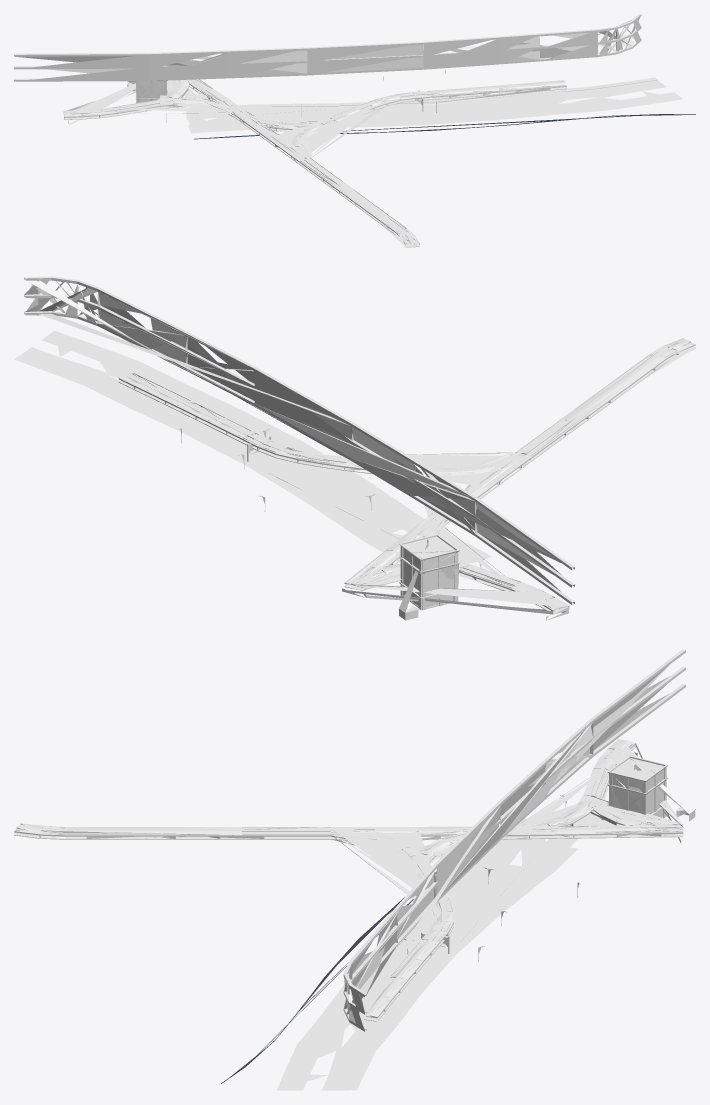
Rendered from street_island2_03.glb.
3 views of the same model, one above another, from view 1: azimuth 30°, elevation 25°; view 2: azimuth 150°, elevation 25°; view 3: azimuth 270°, elevation 25° (orthographic). The views are drawn at different scales.
Parts seen in each view (by area): view 1: seg_954, seg_402, seg_832, seg_825, seg_833, seg_828, seg_779, seg_787, seg_1008, seg_802, seg_807, seg_464 (+1 smaller); view 2: seg_954, seg_402, seg_464, seg_825, seg_833, seg_832, seg_779, seg_787, seg_828, seg_802, seg_807, seg_795; view 3: seg_402, seg_954, seg_825, seg_833, seg_832, seg_464, seg_779, seg_828, seg_802, seg_787, seg_807, seg_1008.
Part boxes in pixels (x1,y1,x2,y2): seg_954: [14, 14, 641, 81]; seg_402: [186, 77, 682, 133]; seg_832: [235, 96, 400, 163]; seg_825: [64, 79, 246, 117]; seg_833: [63, 79, 245, 119]; seg_828: [235, 94, 400, 161]; seg_779: [299, 158, 419, 245]; seg_787: [396, 80, 566, 100]; seg_1008: [194, 114, 695, 139]; seg_802: [299, 158, 419, 247]; seg_807: [399, 82, 567, 102]; seg_464: [127, 80, 167, 103]; seg_954: [24, 276, 574, 604]; seg_402: [14, 330, 492, 563]; seg_464: [399, 534, 459, 620]; seg_825: [344, 517, 569, 611]; seg_833: [344, 517, 566, 614]; seg_832: [276, 448, 532, 524]; seg_779: [516, 338, 695, 456]; seg_787: [118, 372, 287, 454]; seg_828: [276, 447, 532, 521]; seg_802: [518, 338, 695, 459]; seg_807: [118, 373, 282, 457]; seg_795: [342, 561, 569, 620]; seg_402: [277, 818, 577, 1090]; seg_954: [343, 649, 685, 1031]; seg_825: [507, 739, 683, 836]; seg_833: [507, 744, 683, 839]; seg_832: [330, 828, 507, 925]; seg_464: [607, 755, 695, 821]; seg_779: [14, 823, 330, 836]; seg_828: [330, 826, 507, 921]; seg_802: [14, 824, 331, 839]; seg_787: [365, 920, 453, 1018]; seg_807: [363, 922, 453, 1021]; seg_1008: [221, 872, 436, 1083].
Bounding box in the file's own units: 377 × 44.46 × 308.
